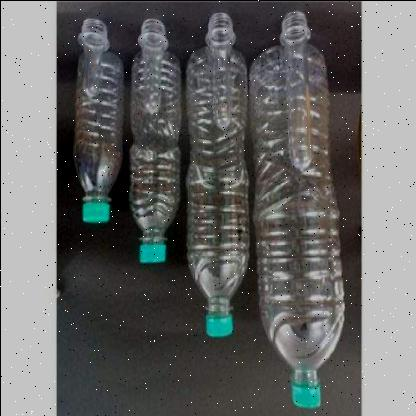Plastic Bottle: (249, 41, 344, 408), (185, 43, 247, 336), (127, 44, 179, 262), (72, 50, 122, 222)
